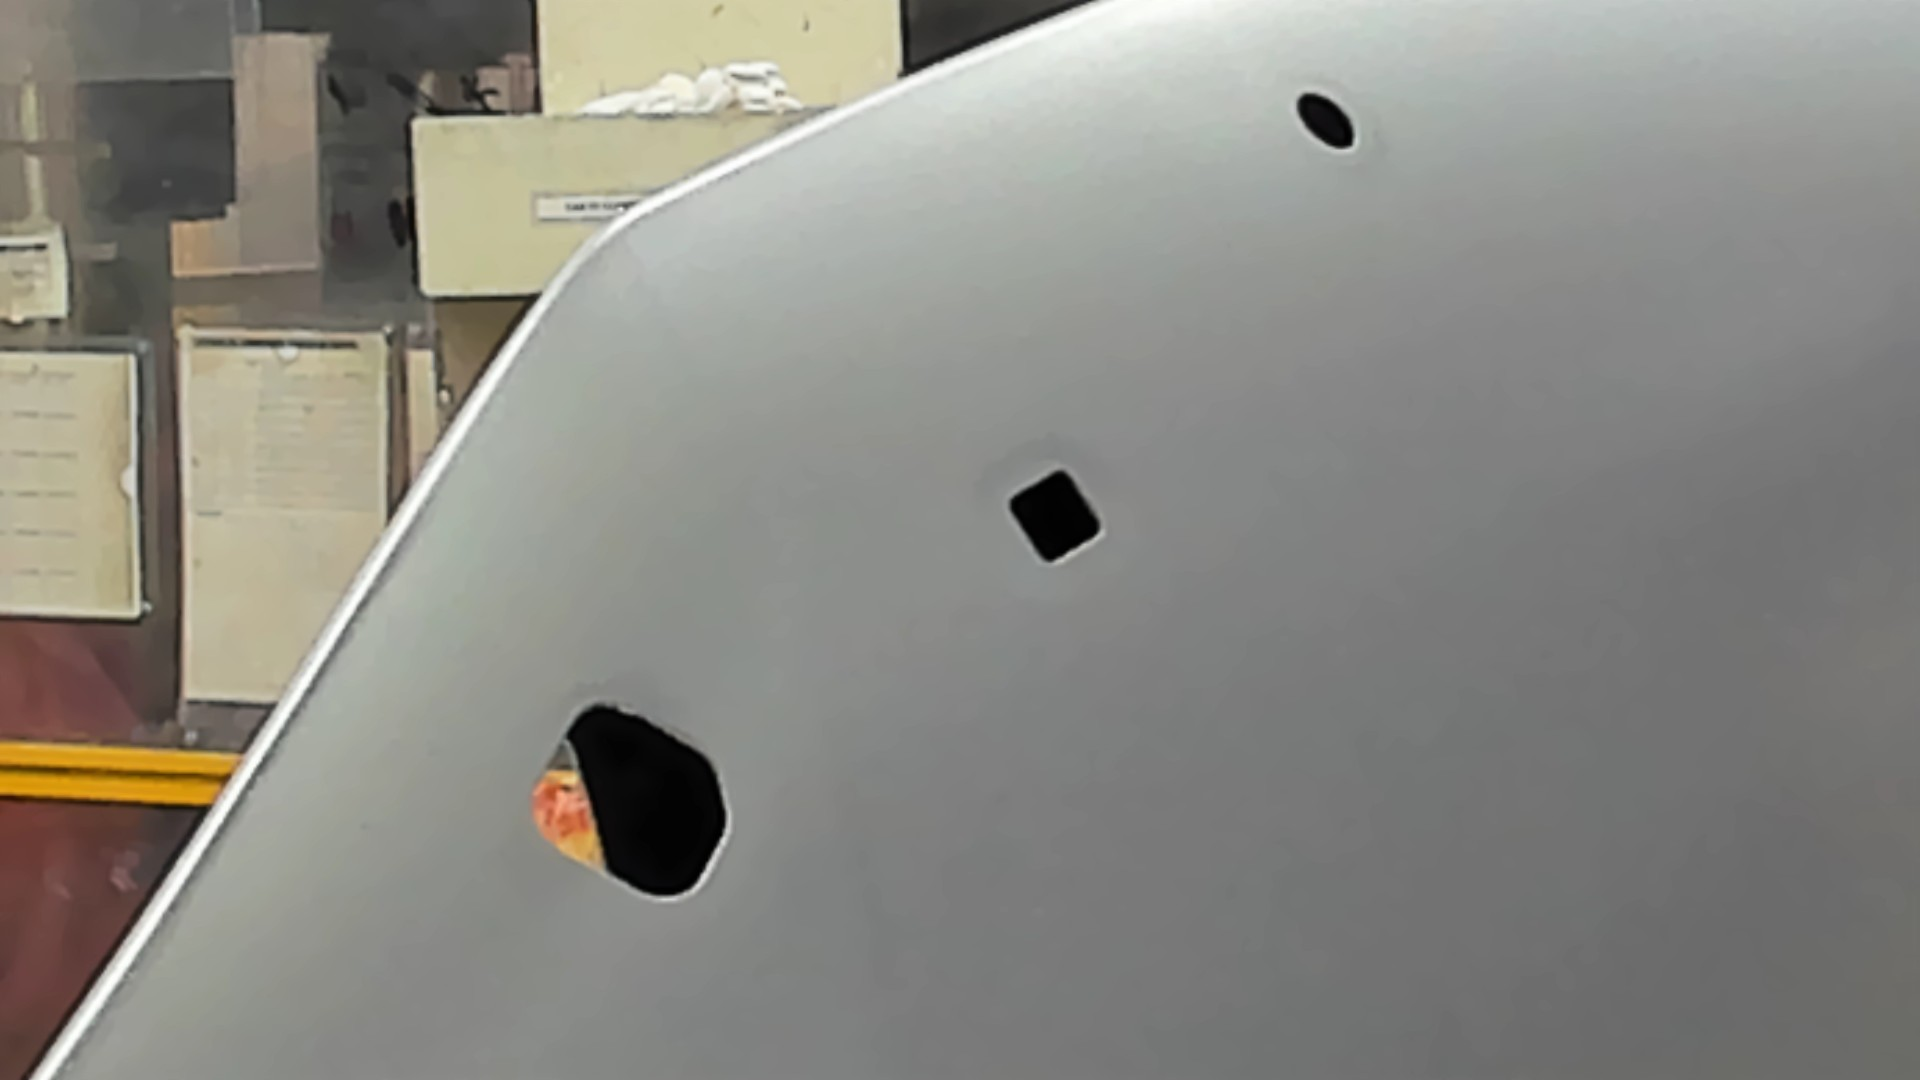chico: (1294, 84, 1360, 156)
grande: (517, 698, 735, 909)
mediano: (1001, 459, 1109, 568)
